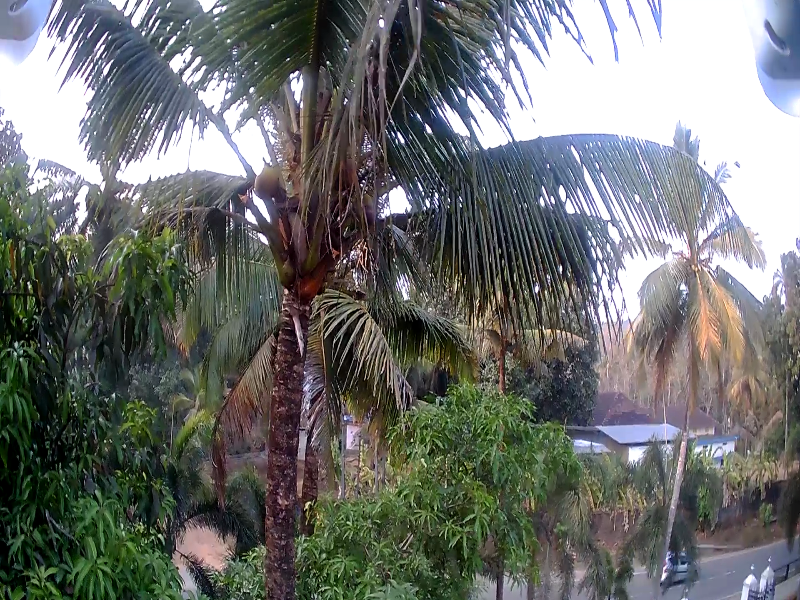coconut: (252, 161, 281, 199)
